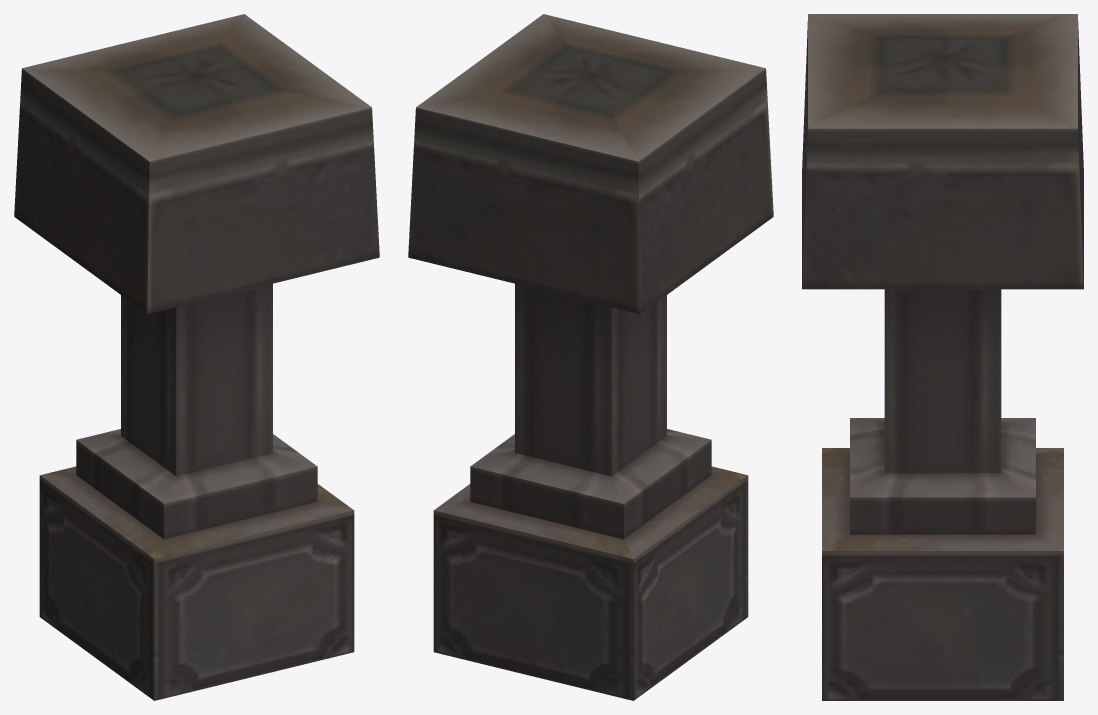
3 renders of one model, left to right at view 1: azimuth 30°, elevation 25°; view 2: azimuth 150°, elevation 25°; view 3: azimuth 270°, elevation 25°, orthographic. The views are drawn at different scales.
Parts seen in each view (by area): view 1: 52060_03; view 2: 52060_03; view 3: 52060_03.
Part boxes in pixels (<box>): 52060_03: <box>14,14,379,700</box>; 52060_03: <box>408,14,773,700</box>; 52060_03: <box>802,14,1083,700</box>.
Bounding box in the file's own units: 153 × 352 × 152.
